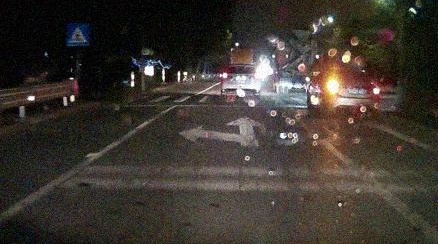L_light: (328, 82, 345, 90), (223, 74, 233, 78)
R_light: (363, 87, 379, 95), (249, 74, 259, 79)
T_light: (348, 71, 357, 74), (238, 66, 244, 67)
night-no: (221, 65, 260, 97)
night-right: (327, 68, 379, 117)
